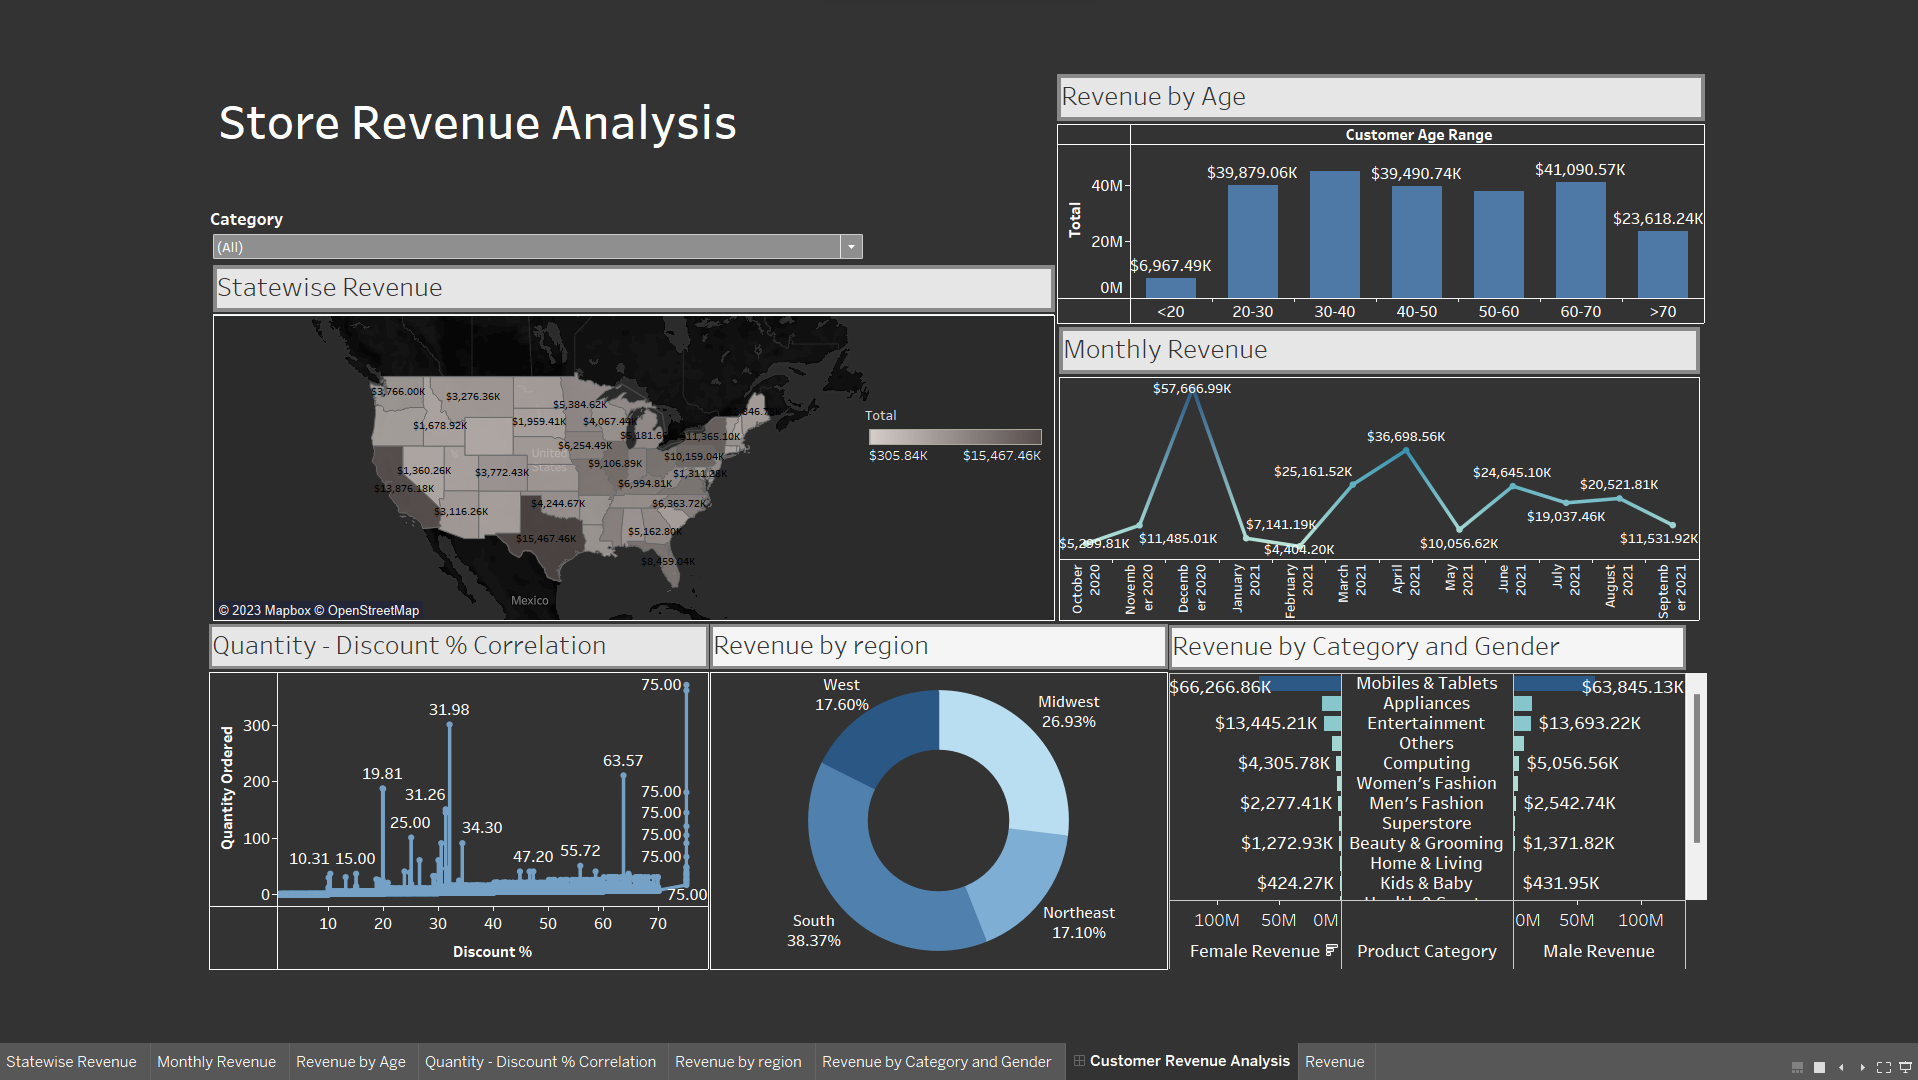

The dashboard page shown, as its layout file describes it:
{"tool":"tableau","page":{"name":"Customer Revenue Analysis","canvas":[1500,900],"ordinal":0},"visuals":[{"type":"worksheet","title":"Revenue by Age","mark":"Automatic","rows":["TOTAL"],"cols":["AGE (bin)"],"box":[848,3,648,250]},{"type":"text","box":[6,4,811,91]},{"type":"title","box":[8,8,1484,50]},{"type":"filter","title":"Revenue by Category and Gender","param":"[federated.03jwtbb1bxogr118ijr150libtiu].[none:CATEGORY:nk]","box":[1,136,656,56]},{"type":"worksheet","title":"Statewise Revenue","mark":"Automatic","box":[4,194,842,356]},{"type":"worksheet","title":"Monthly Revenue","mark":"Automatic","rows":["TOTAL"],"cols":["MONTH"],"box":[850,256,641,295]},{"type":"legend","title":"Statewise Revenue","param":"[federated.03jwtbb1bxogr118ijr150libtiu].[sum:TOTAL:qk]","box":[656,335,181,75]},{"type":"worksheet","title":"Quantity - Discount % Correlation","mark":"Line","rows":["QUANTITY_ORDERED"],"cols":["DISCOUNT %"],"box":[0,553,500,346]},{"type":"worksheet","title":"Revenue by region","mark":"Pie","rows":["Calculation_1163336143163842561","Calculation_1163336143163842561"],"box":[501,553,458,346]},{"type":"worksheet","title":"Revenue by Category and Gender","mark":"Automatic","rows":["CATEGORY"],"cols":["Calculation_1163336143165546498","Calculation_1163336143163842561","Calculation_1163336143165775875"],"box":[960,554,540,345]}]}

Visuals, with their boxes on the page's 1500x900 design canvas (x1, y1, x2, y2). These are canvas units, not pixel positions in the 1918x1080 screenshot, which may show the page scaled, cropped or inside an application window:
"Revenue by Age" worksheet: l=848, t=3, r=1496, b=253
text: l=6, t=4, r=817, b=95
title: l=8, t=8, r=1492, b=58
"Revenue by Category and Gender" filter: l=1, t=136, r=657, b=192
"Statewise Revenue" worksheet: l=4, t=194, r=846, b=550
"Monthly Revenue" worksheet: l=850, t=256, r=1491, b=551
"Statewise Revenue" legend: l=656, t=335, r=837, b=410
"Quantity - Discount % Correlation" worksheet (Line marks): l=0, t=553, r=500, b=899
"Revenue by region" worksheet (Pie marks): l=501, t=553, r=959, b=899
"Revenue by Category and Gender" worksheet: l=960, t=554, r=1500, b=899
